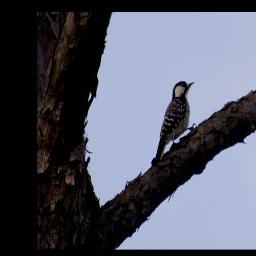Woodpecker: (148, 76, 199, 171)
